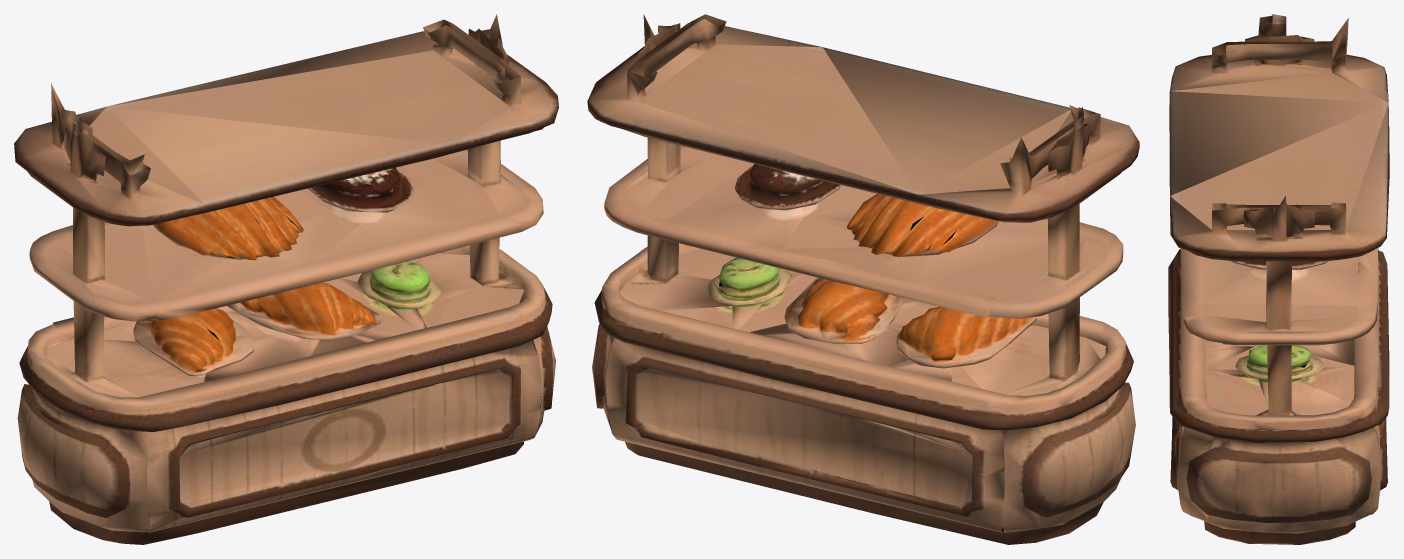
File: pastry-case.glb
3 renders of one model, left to right at view 1: azimuth 30°, elevation 25°; view 2: azimuth 150°, elevation 25°; view 3: azimuth 270°, elevation 25°, orthographic. The views are drawn at different scales.
Visible parts, largest first — view 1: pastry_case; view 2: pastry_case; view 3: pastry_case.
Part boxes in pixels (x1,y1,x2,y2): pastry_case: (14, 14, 558, 544); pastry_case: (587, 14, 1139, 544); pastry_case: (1168, 14, 1389, 544).
Size of the model in its own units: 2 by 1.58 by 0.9.
1 material, 1 textured.
